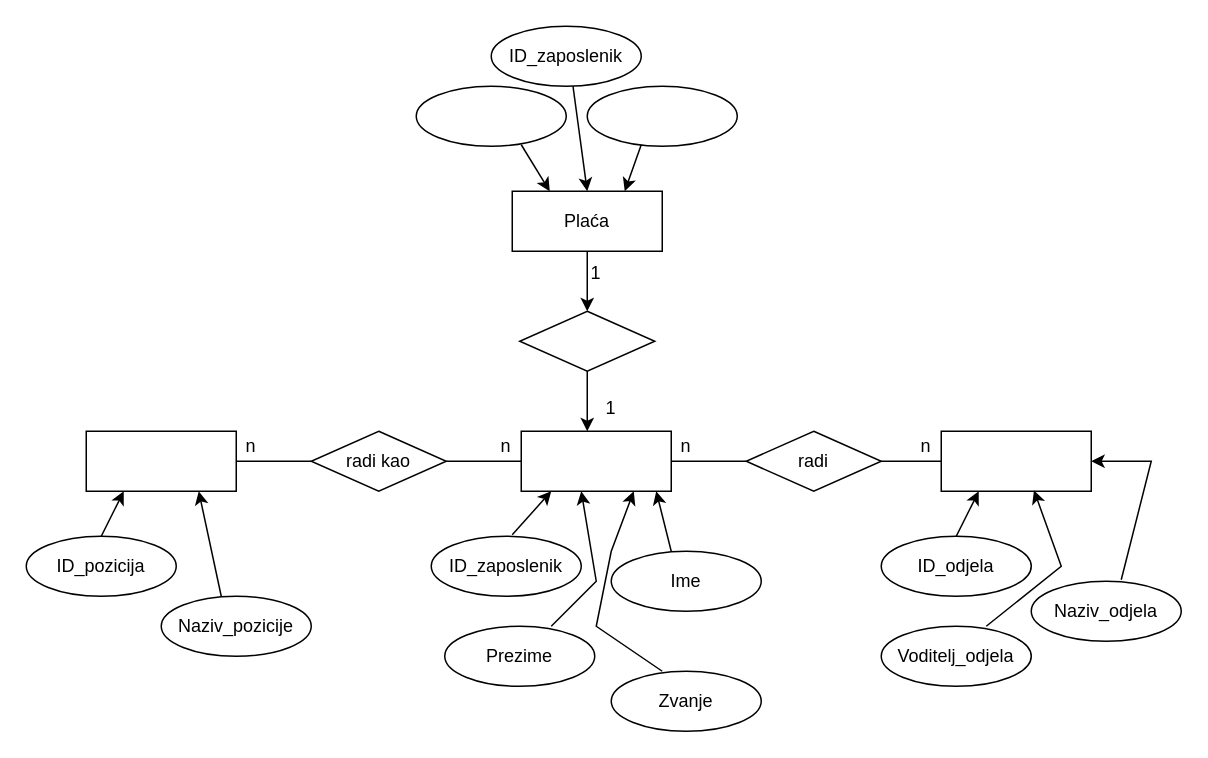
This 1208x758 diagram has some shape labels left out. The shapes that lost their labels are listed below. From the top down, each one's centre as x and y in pixels, then its label:
the point at 490,115: ID_place
the point at 661,115: iznos
the point at 586,340: prima
the point at 160,460: Pozicija
the point at 595,460: Zaposlenici
the point at 1015,460: Odjel
